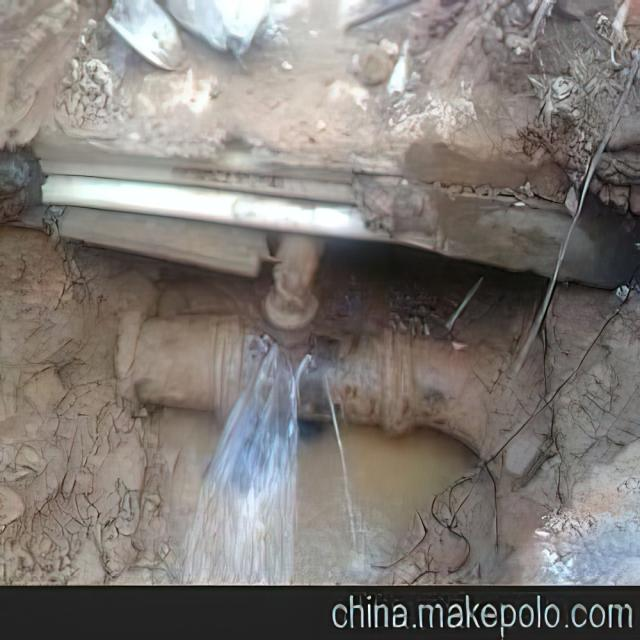leak: (183, 342, 311, 584), (324, 374, 356, 547)
